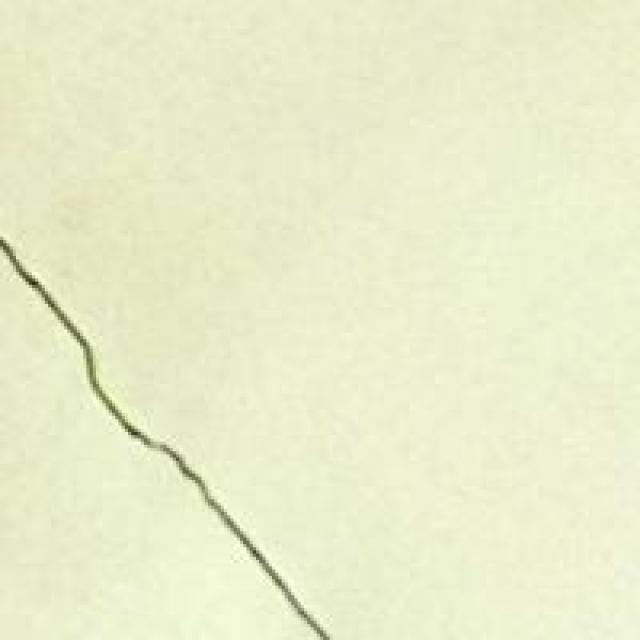crack: (0, 190, 350, 640)
